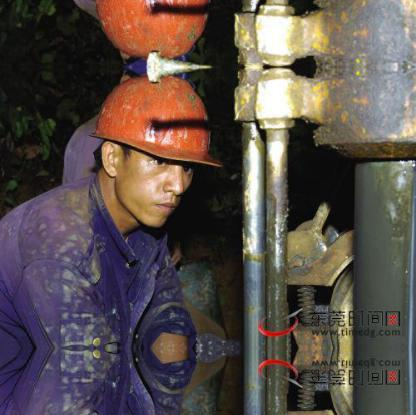helmet: (78, 71, 226, 240), (78, 0, 227, 62)
